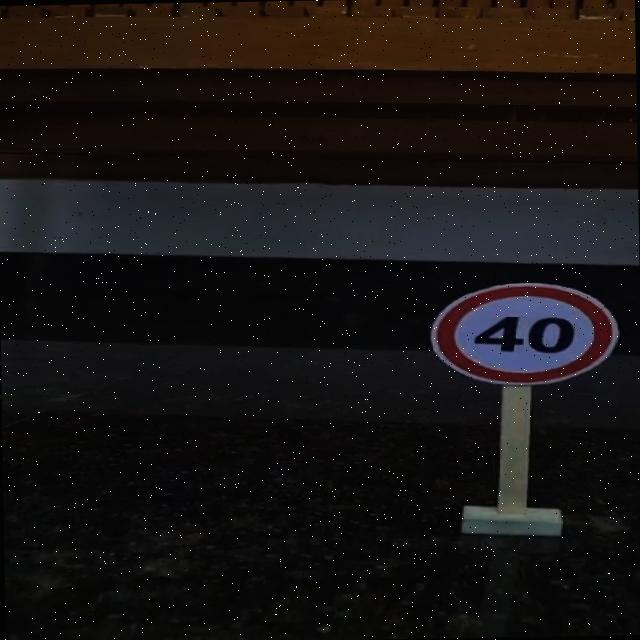Speed40: (426, 275, 625, 390)
